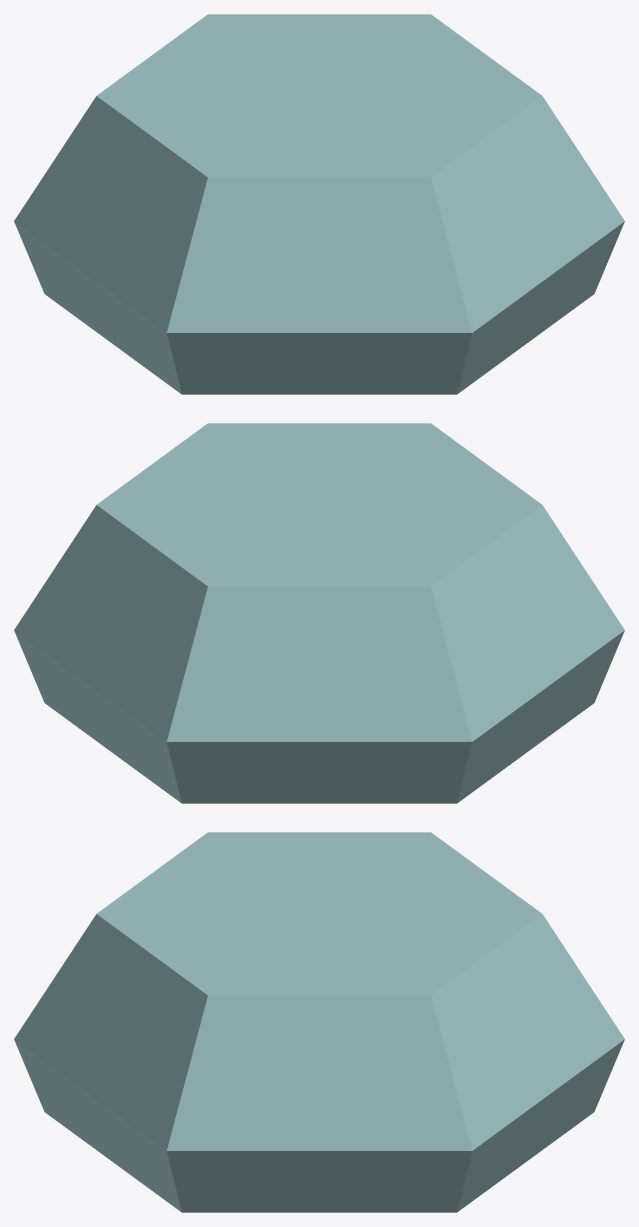
The model's file is stone_s3.glb.
The picture shows the model from 3 angles, top to bottom: view 1: azimuth 30°, elevation 25°; view 2: azimuth 150°, elevation 25°; view 3: azimuth 270°, elevation 25°; orthographic projection.
Size of the model in its own units: 0.5937 by 0.2453 by 0.6855.
